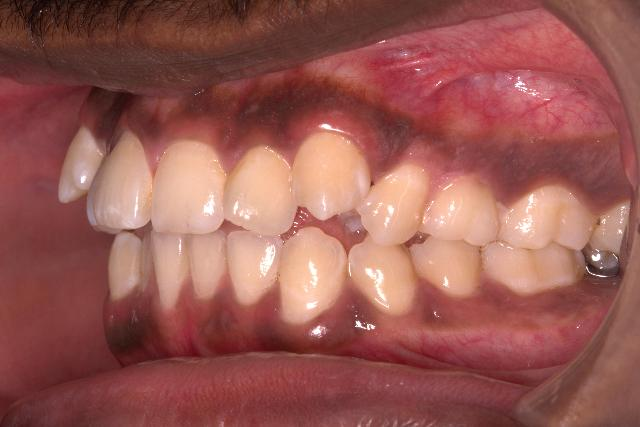canine class II 1/4: (278, 128, 416, 331)
molar class III 1/4: (480, 180, 598, 300)
